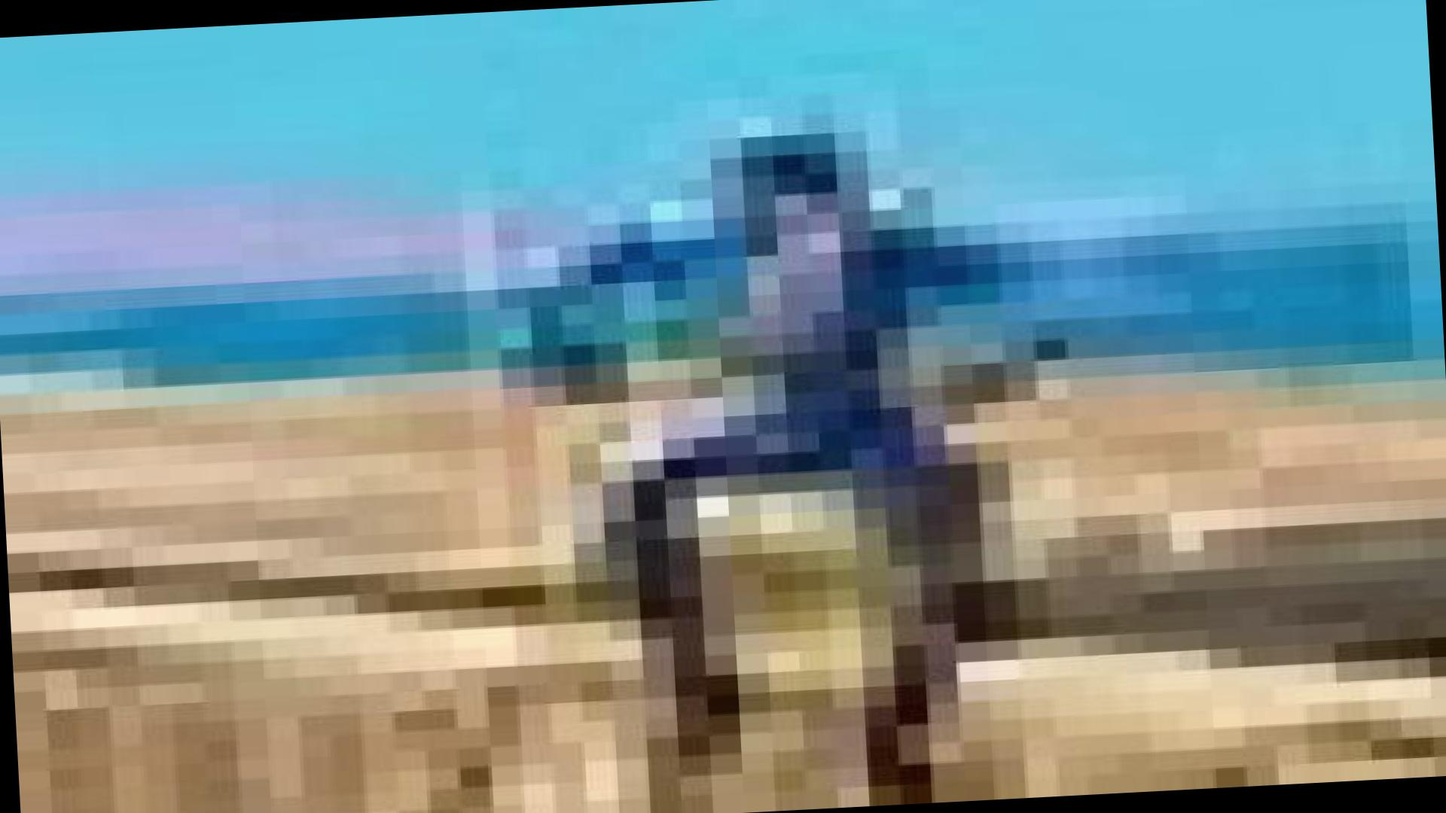player: (599, 145, 1087, 807)
